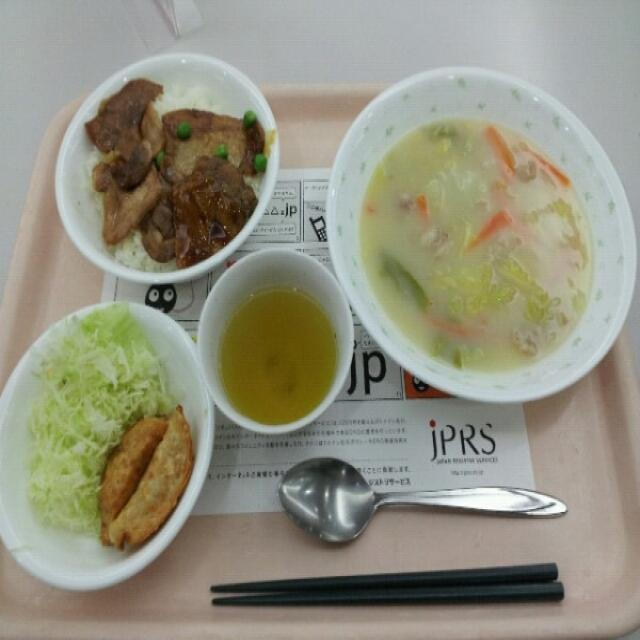Green Salad: (20, 310, 152, 530)
